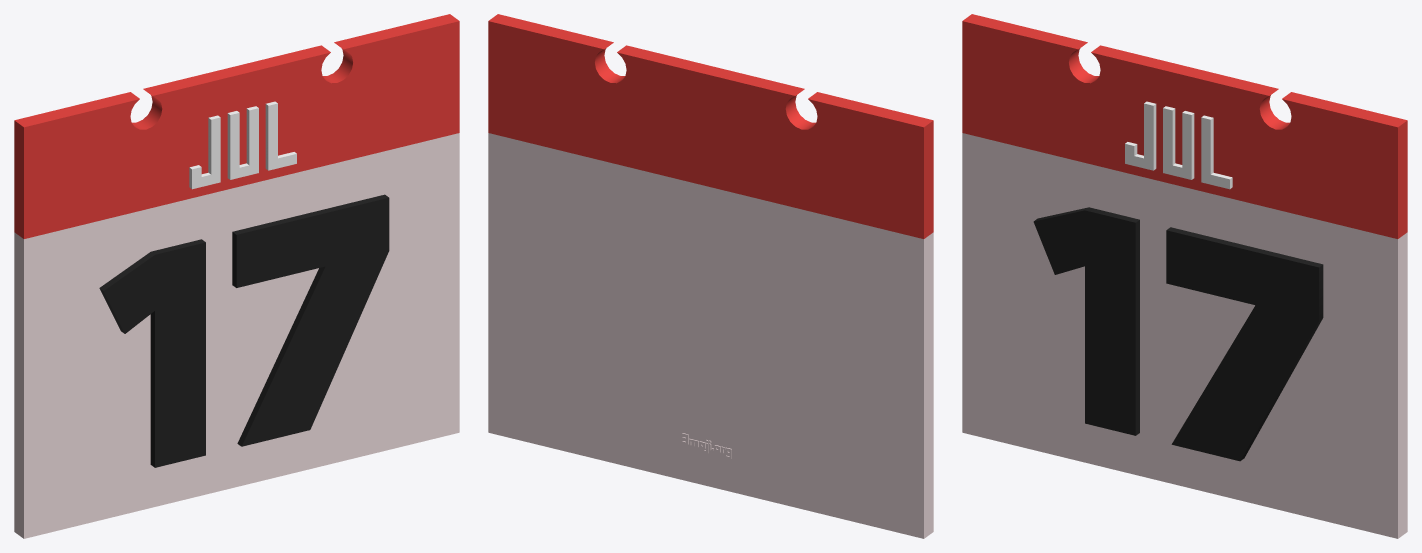
File: calendar.fbx
3 views of the same model, side by side, from view 1: azimuth 30°, elevation 25°; view 2: azimuth 150°, elevation 25°; view 3: azimuth 330°, elevation 25° (orthographic).
Visible parts, largest first — view 1: Circle.2565; view 2: Circle.2565; view 3: Circle.2565.
Part boxes in pixels (box(x1,y1,x2,y2)): Circle.2565: box(14, 14, 459, 538); Circle.2565: box(488, 14, 933, 538); Circle.2565: box(962, 14, 1407, 538).
Bounding box in the file's own units: 233 × 210 × 13.4.
Materials: 1 (1 with a texture image).
